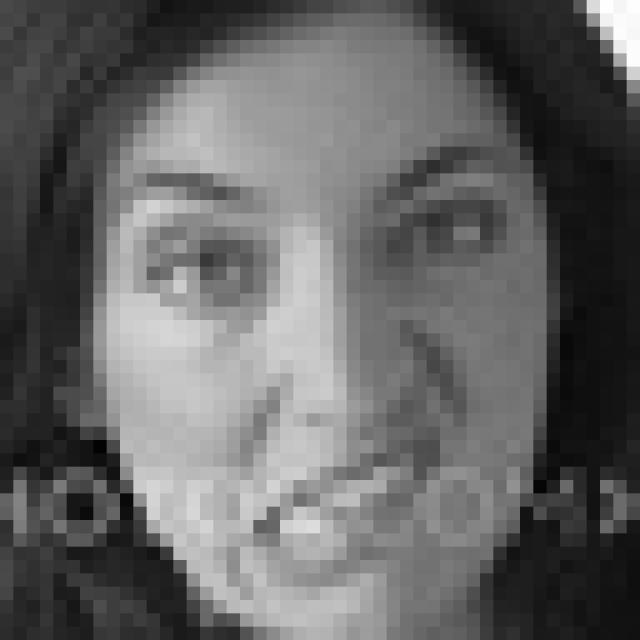disgust: (107, 136, 521, 596)
